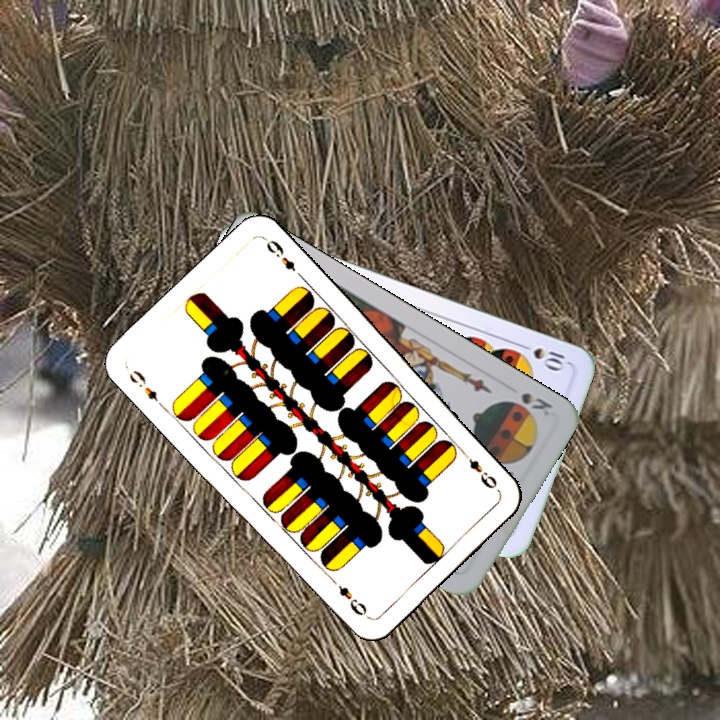E9: (124, 366, 168, 411), (458, 447, 500, 492)
S10: (514, 339, 568, 373)
SK: (517, 388, 555, 420)
